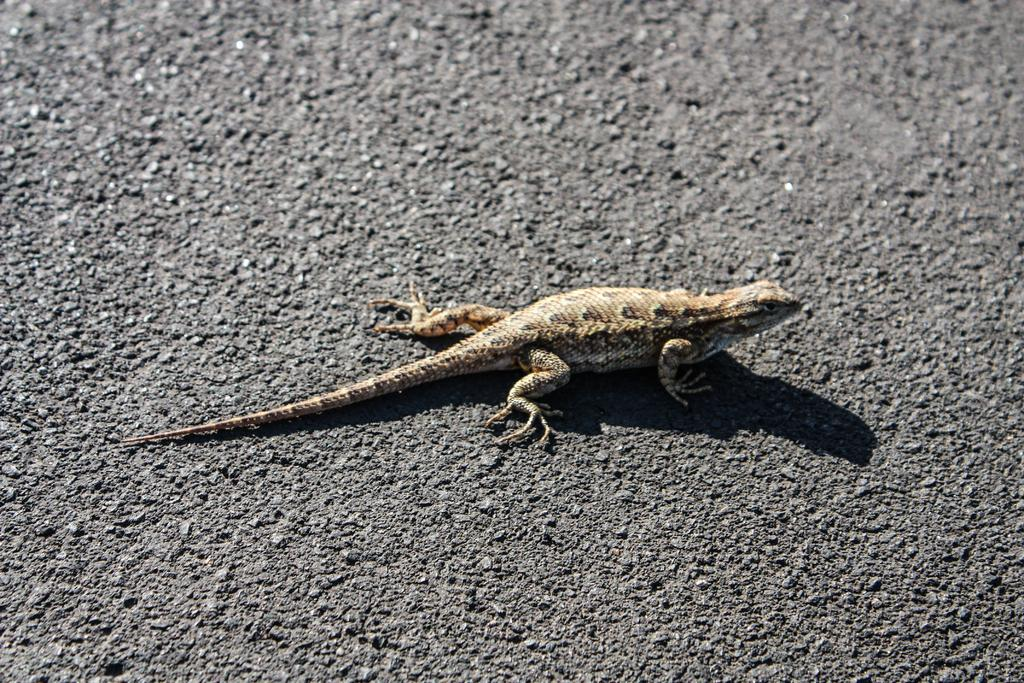lizard: (116, 260, 808, 450)
